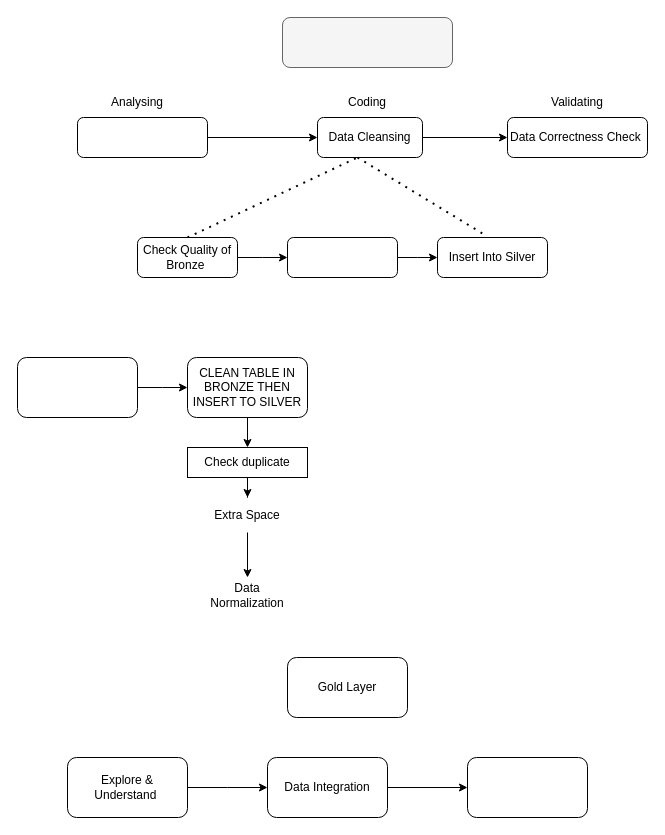
Some shapes in this 665 by 835 pixel diagram are drawn without their labels. Here are the shapes that lost their labels. From the top down, the centre of each, then its label:
the point at 367,42: Silver Layer
the point at 142,137: Explore & Understand Data
the point at 342,257: Write Data Transformation
the point at 77,387: Create Tables with New metadata
